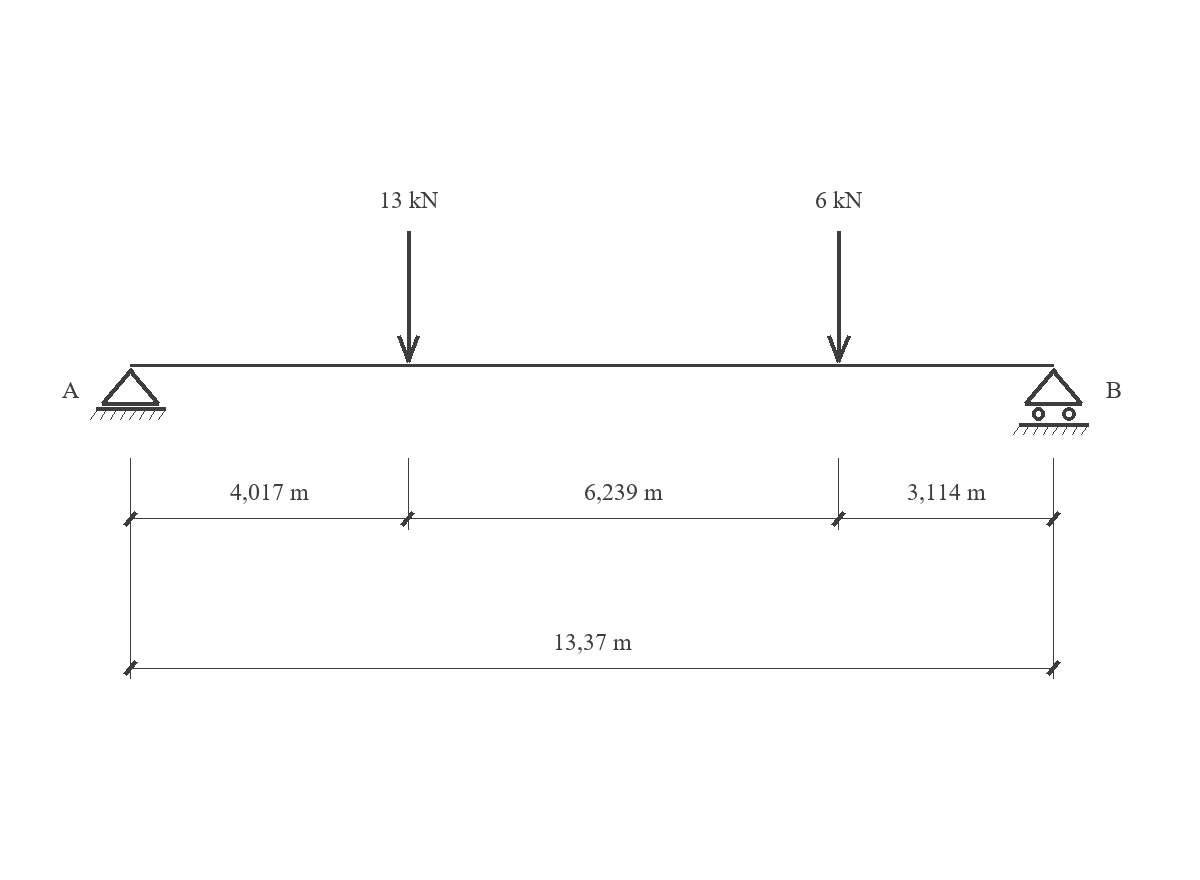pin_support: (90, 368, 166, 420)
point_load: (827, 231, 851, 363), (397, 231, 420, 363)
roller_support: (1013, 368, 1089, 435)
